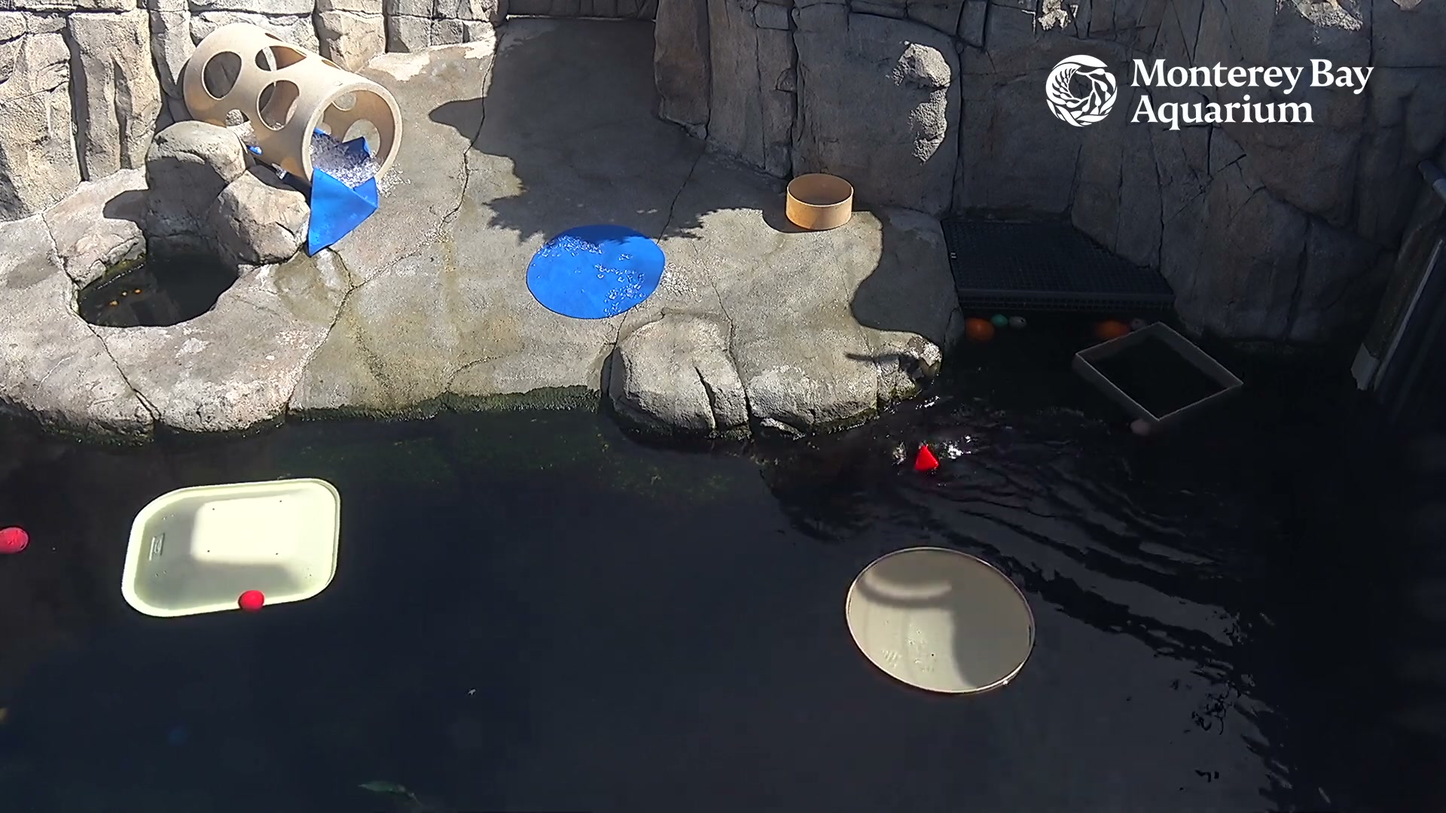Southern Sea Otter: (865, 399, 1065, 488)
